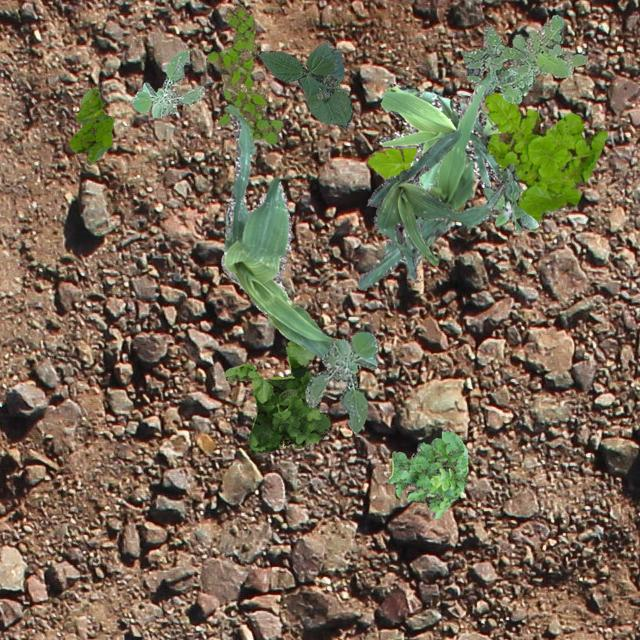crop: (220, 100, 334, 358), (356, 84, 484, 288), (366, 130, 504, 278), (378, 82, 502, 190), (258, 40, 352, 126)
weed: (367, 92, 606, 230), (222, 338, 330, 454), (205, 3, 282, 142), (474, 13, 586, 102), (304, 331, 376, 434), (387, 428, 468, 518), (132, 48, 204, 116), (461, 22, 526, 84), (482, 162, 538, 230), (68, 88, 112, 164)
